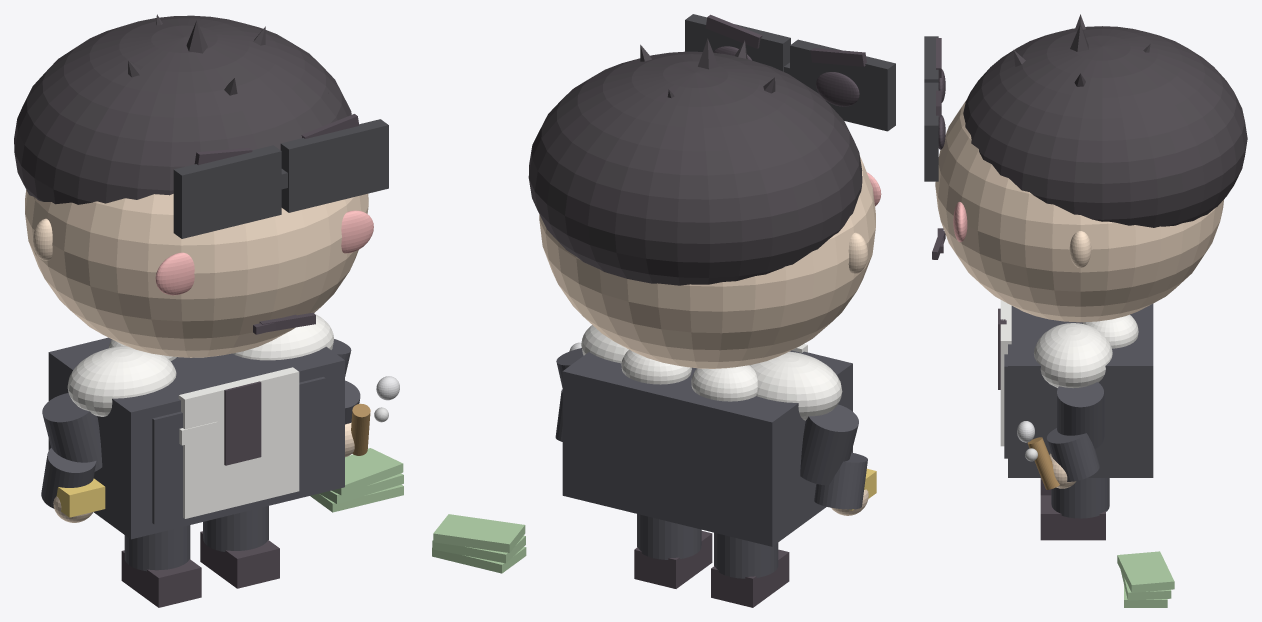
The model's file is boss.glb.
3 renders of one model, left to right at view 1: azimuth 30°, elevation 25°; view 2: azimuth 150°, elevation 25°; view 3: azimuth 270°, elevation 25°, orthographic. The views are drawn at different scales.
Visible parts, largest first — view 1: HairCap, Head, Coat, ShirtFront, Lens_L, Lens_R, CoatFront, FurShoulder_L, UpperArm_L, Tie, Shoe_L, Shoe_R (+16 smaller); view 2: HairCap, Coat, Head, Lens_L, FurShoulder_L, UpperArm_L, Cash_2, Lens_R, Leg_L, Leg_R, Shoe_L, Shoe_R (+10 smaller); view 3: HairCap, Head, Coat, FurShoulder_R, UpperArm_R, Leg_R, Shoe_R, Forearm_R, Cash_2, Lens_R, FurNeck_R, ShirtFront (+5 smaller).
Part boxes in pixels (x1,y1,x2,y2): HairCap: (14,15,351,204); Head: (25,190,368,357); Coat: (48,337,344,539); ShirtFront: (178,367,299,518); Lens_L: (173,145,281,238); Lens_R: (280,119,388,212); CoatFront: (152,377,325,524); FurShoulder_L: (67,346,176,416); UpperArm_L: (42,393,102,471); Tie: (224,381,261,465); Shoe_L: (121,550,201,607); Shoe_R: (200,531,279,588); HairCap: (528,51,862,285); Coat: (562,350,852,546); Head: (539,156,875,368); Lens_L: (790,39,895,131); FurShoulder_L: (749,351,842,420); UpperArm_L: (800,404,858,485); Cash_2: (433,514,525,552); Lens_R: (685,14,790,71); Leg_L: (714,532,778,578); Leg_R: (637,514,701,559); Shoe_L: (711,549,789,607); Shoe_R: (634,531,712,588); HairCap: (963,26,1247,227); Head: (935,100,1223,322); Coat: (1008,304,1153,477); FurShoulder_R: (1034,323,1112,388); UpperArm_R: (1057,382,1104,448); Leg_R: (1051,478,1109,518); Shoe_R: (1040,495,1105,540); Forearm_R: (1047,428,1099,481); Cash_2: (1117,551,1174,592); Lens_R: (924,82,938,181); FurNeck_R: (1082,314,1138,348); ShirtFront: (1000,300,1011,446).
Bounding box in the file's own units: 1.5 × 2 × 1.19.
